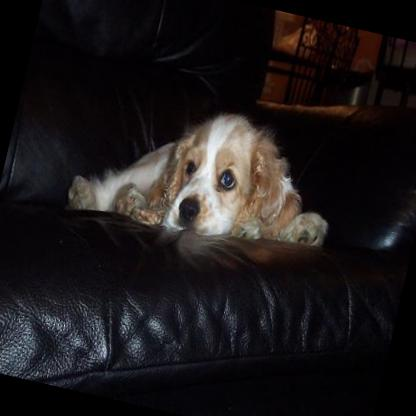cocker_spaniel: (64, 76, 350, 265)
